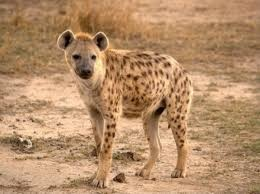hyna: (55, 26, 195, 189)
